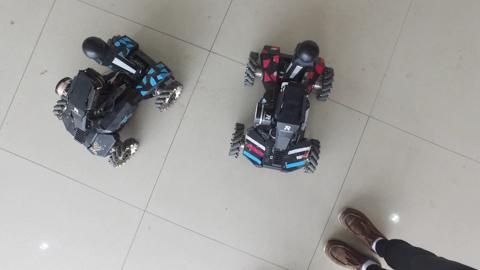chariot: (40, 22, 189, 173), (226, 35, 340, 176)
